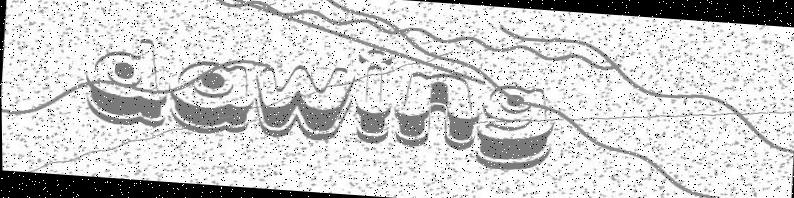a: (164, 58, 256, 137)
d: (82, 35, 171, 127)
g: (473, 84, 556, 172)
i: (353, 49, 395, 144)
n: (392, 71, 481, 151)
w: (251, 62, 354, 143)
